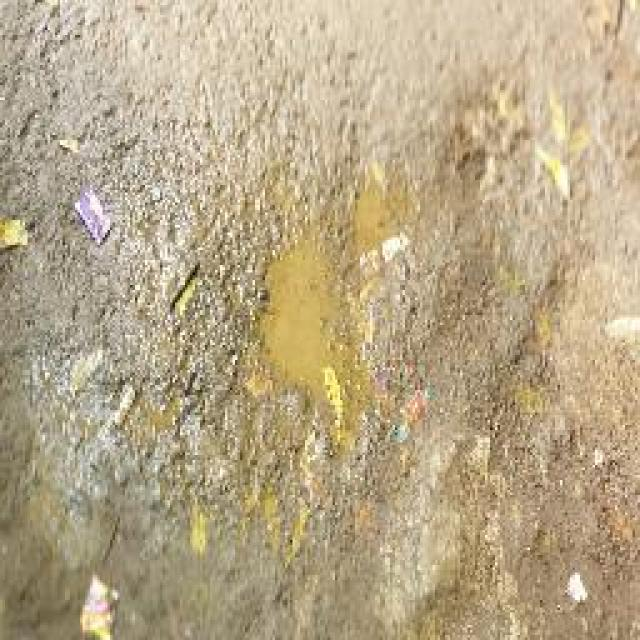waterlogging: (214, 149, 454, 455)
